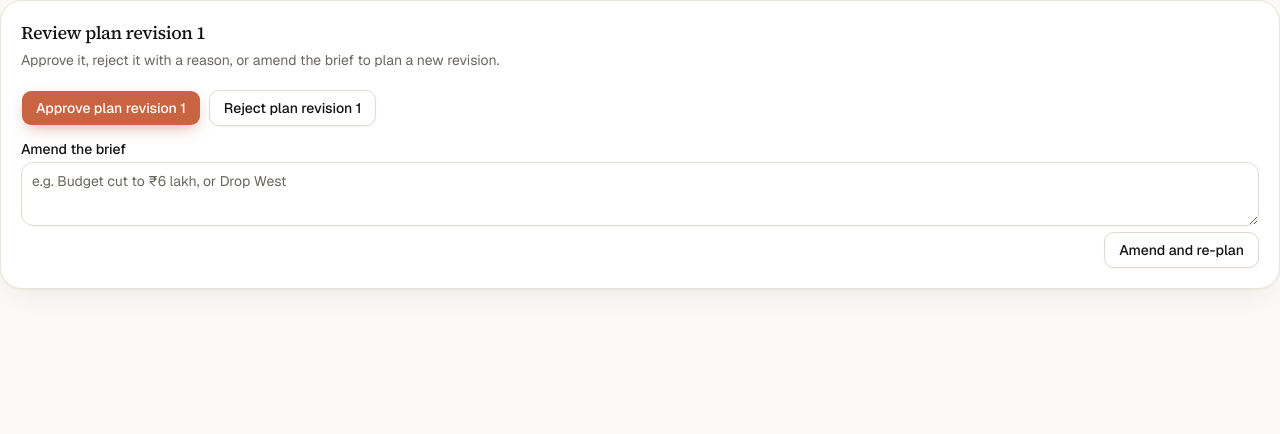
Scenario: ReviewPanel › keeps the reason when a rejection fails
Click the button "Reject plan revision 1". click: (293, 108)
box: [209,90,376,126]
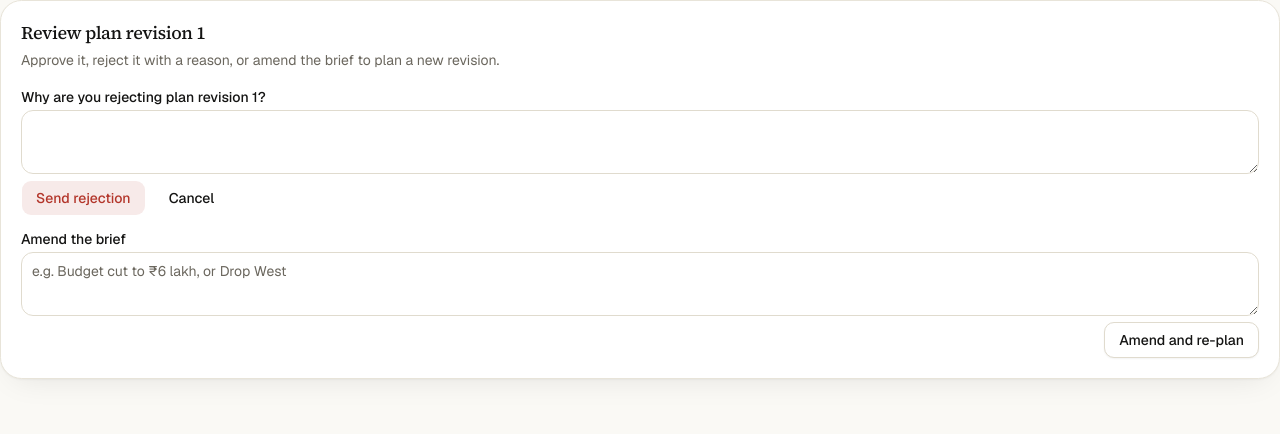
Type "Too deep." into the text box labelled "Why are you rejecting plan revision 1?". click: (640, 142)
box: [21,110,1259,174]
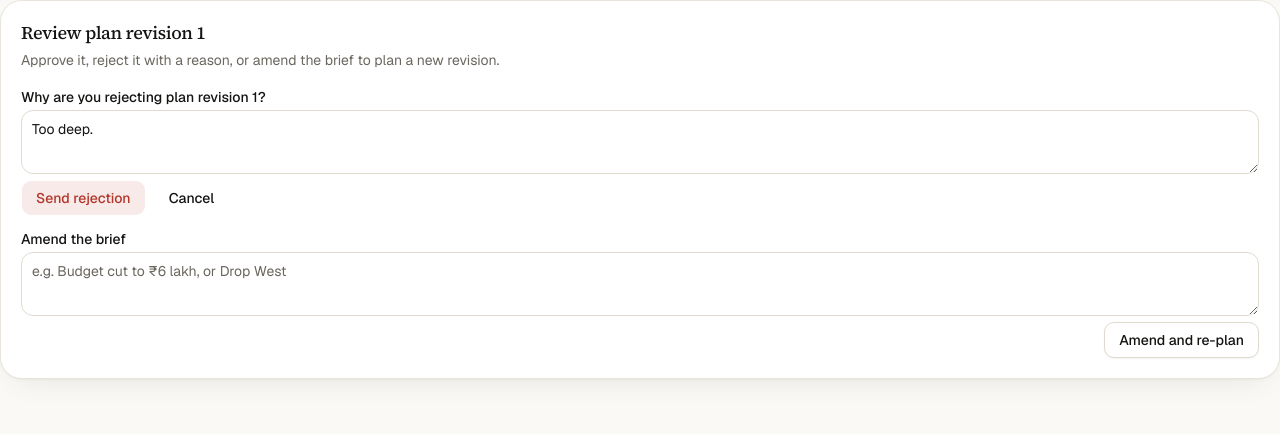
Click the button "Send rejection". click: (83, 198)
box: [21,180,146,216]
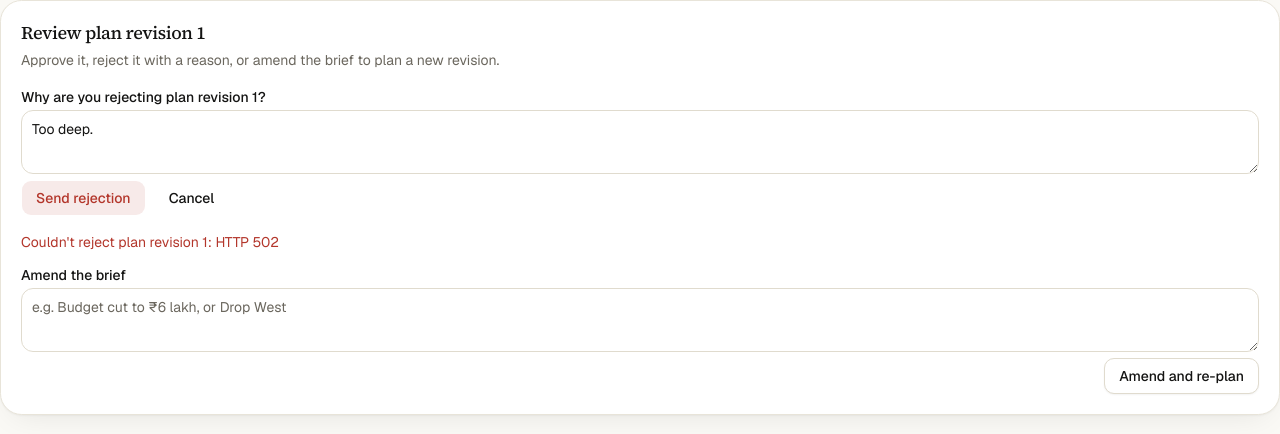
Expected: the message reads "Couldn't reject plan revision 1: HTTP 502", [21,233,279,251]
